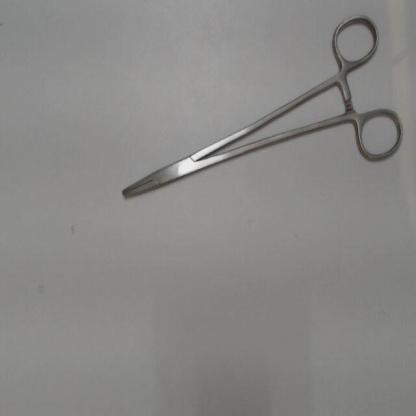8 Mayo Needle Holder: (109, 5, 410, 208)
